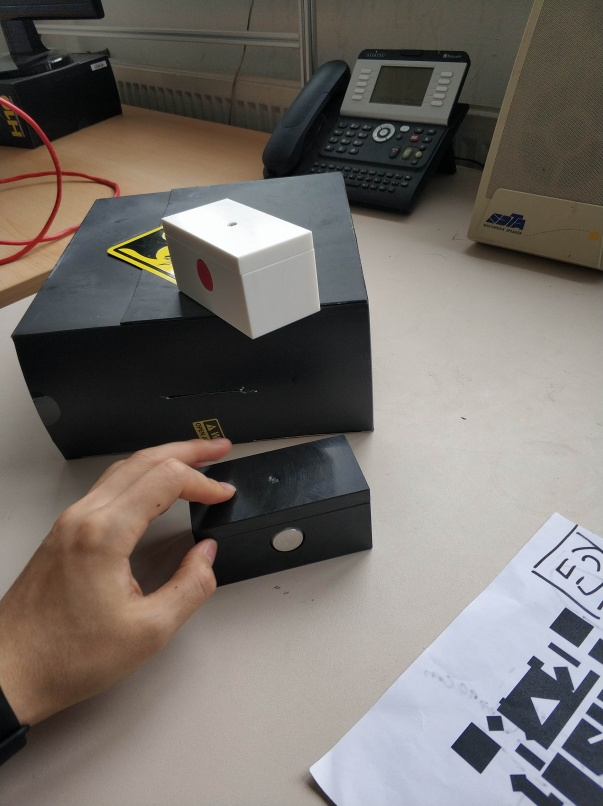black+black+silver: (191, 433, 376, 591)
white+white+red: (157, 196, 323, 345)
